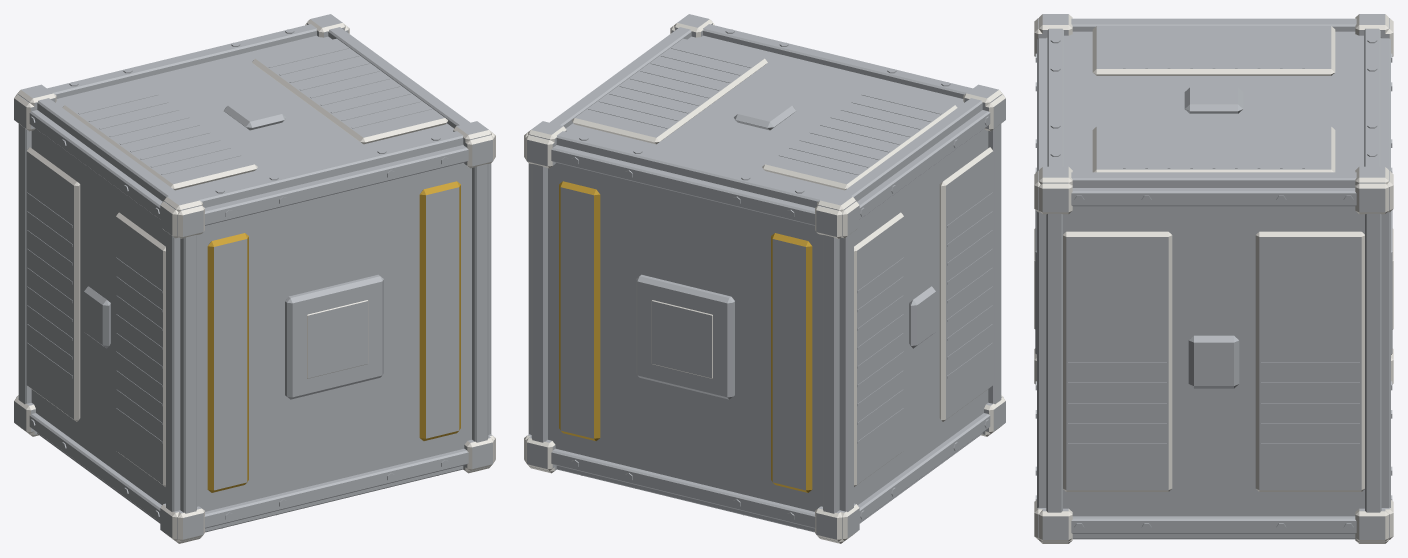
File: bus_heavy_geo_lunar.glb
3 views of the same model, side by side, from view 1: azimuth 30°, elevation 25°; view 2: azimuth 150°, elevation 25°; view 3: azimuth 270°, elevation 25° (orthographic). The views are drawn at different scales.
Parts seen in each view (by area): view 1: spacebus_blanket_and_radiators; view 2: spacebus_blanket_and_radiators; view 3: spacebus_blanket_and_radiators.
Part boxes in pixels (x1,y1,x2,y2): spacebus_blanket_and_radiators: (14, 14, 495, 543); spacebus_blanket_and_radiators: (524, 14, 1005, 543); spacebus_blanket_and_radiators: (1034, 14, 1393, 543).
Bounding box in the file's own units: 1.8 × 1.8 × 1.6.
